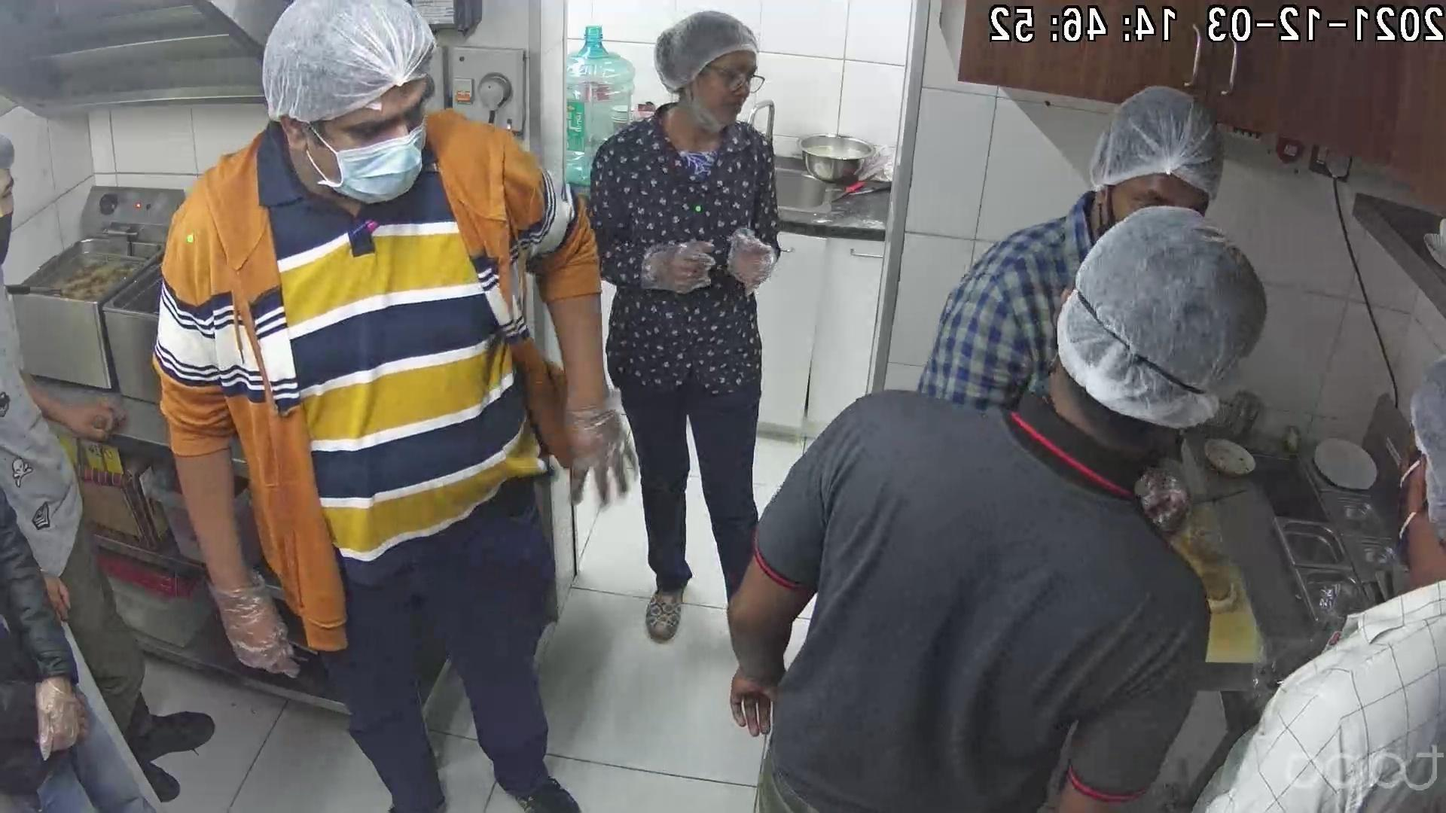apron: (186, 553, 311, 689), (548, 387, 651, 500), (691, 214, 805, 314), (636, 229, 728, 321), (26, 656, 100, 769)
gloves: (1055, 199, 1292, 442), (217, 0, 445, 136), (1101, 69, 1242, 214), (1377, 350, 1446, 569), (636, 1, 781, 103), (0, 129, 28, 192)
mask: (314, 108, 425, 201), (0, 209, 41, 297)
no_apron: (719, 623, 791, 736), (43, 390, 130, 453)
no_hairnet: (689, 59, 756, 121)
